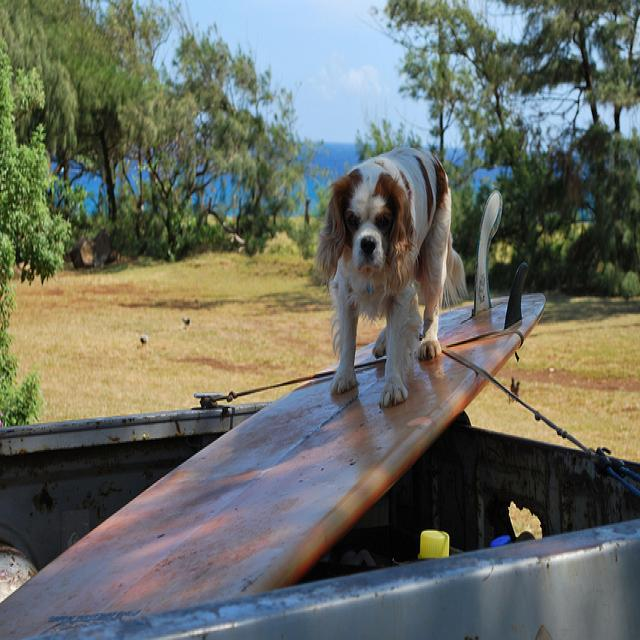Vehicle: (3, 400, 640, 640)
